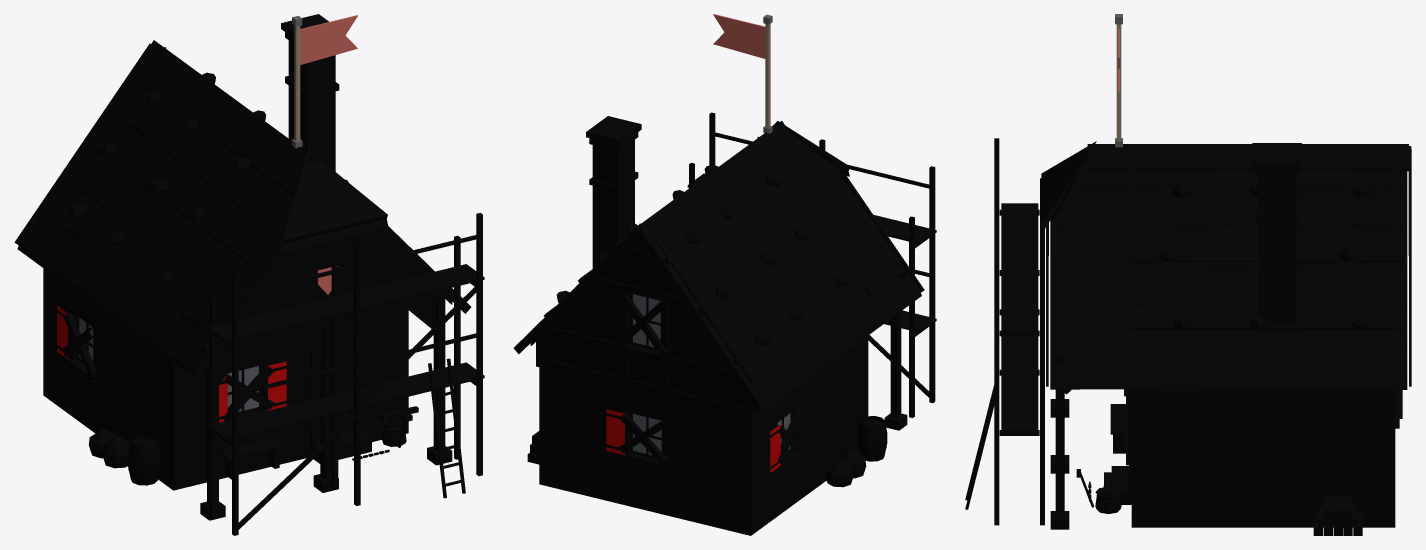
Rendered from wohnhaus_zwerg_s1_g4.glb.
The picture shows the model from 3 angles, left to right: view 1: azimuth 30°, elevation 25°; view 2: azimuth 150°, elevation 25°; view 3: azimuth 270°, elevation 25°; orthographic projection. The views are drawn at different scales.
Visible parts, largest first — view 1: Dach, Haus, Geruest, Fahne, Leerstand, Scheiben; view 2: Haus, Dach, Geruest, Leerstand, Fahne, Scheiben; view 3: Dach, Haus, Geruest, Fahne.
Part boxes in pixels (x1=…): Dach: x1=14, y1=40, x2=471, y2=378; Haus: x1=37, y1=14, x2=452, y2=520; Geruest: x1=208, y1=213, x2=484, y2=535; Fahne: x1=292, y1=15, x2=357, y2=148; Leerstand: x1=62, y1=313, x2=365, y2=425; Scheiben: x1=79, y1=318, x2=258, y2=411; Haus: x1=527, y1=116, x2=907, y2=535; Dach: x1=513, y1=121, x2=924, y2=412; Geruest: x1=687, y1=112, x2=936, y2=417; Leerstand: x1=618, y1=294, x2=805, y2=464; Fahne: x1=713, y1=14, x2=772, y2=133; Scheiben: x1=633, y1=294, x2=790, y2=455; Dach: x1=1041, y1=141, x2=1411, y2=389; Haus: x1=1050, y1=143, x2=1399, y2=535; Geruest: x1=965, y1=138, x2=1044, y2=525; Fahne: x1=1115, y1=14, x2=1122, y2=147.
Size of the model in its own units: 6.32 by 9.12 by 8.12.
